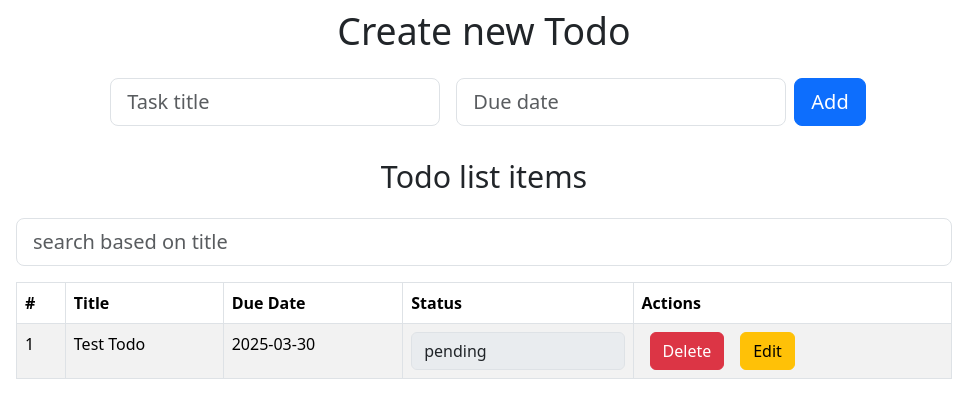
it: App Component › should render the form and table
expect the text "Test Todo" is shown: met, box x1=65 y1=324 x2=223 y2=379
// Simulate clicking the 'Edit' button
Click the button "Edit" at [768, 351], box x1=740 y1=332 x2=795 y2=370
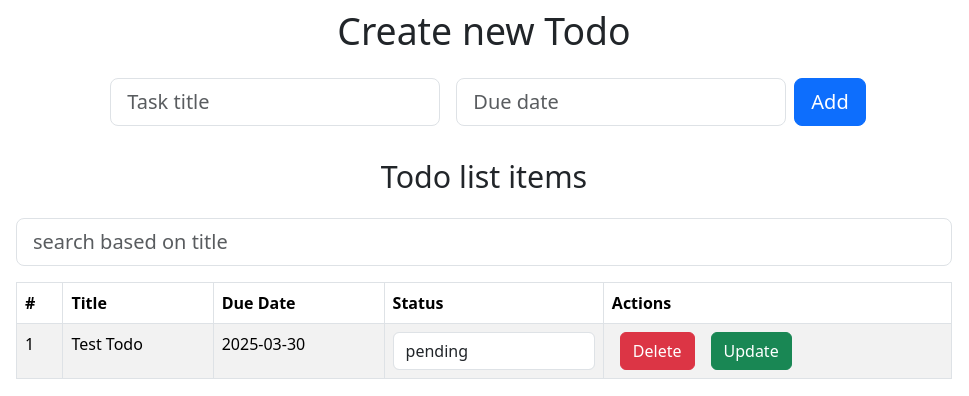
expect the button "Update" is shown: met, box x1=710 y1=332 x2=792 y2=370
